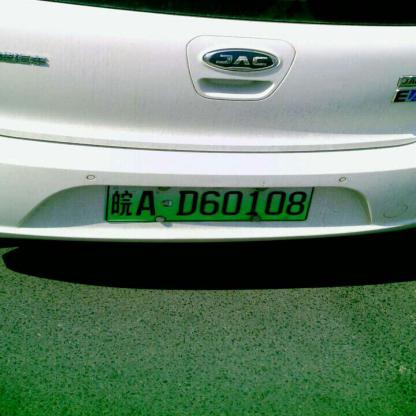lp: (107, 186, 311, 221)
